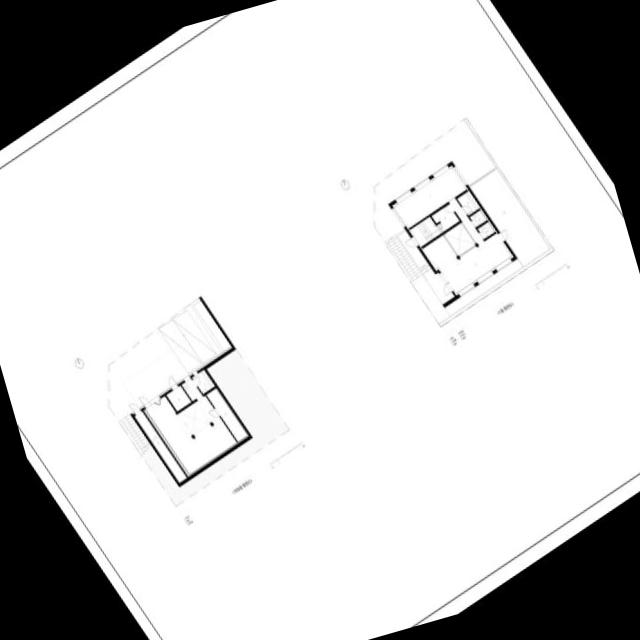background: (0, 0, 640, 640)
space_balconi: (444, 168, 550, 315)
space_front: (409, 216, 443, 247)
space_other: (109, 297, 232, 421), (421, 197, 513, 295), (143, 395, 237, 476), (392, 165, 468, 228), (134, 411, 187, 482), (206, 387, 249, 442), (178, 401, 210, 435), (398, 230, 427, 267), (444, 222, 475, 255), (431, 204, 459, 231), (166, 385, 191, 411), (457, 193, 476, 215), (466, 190, 480, 209), (201, 369, 215, 387)
space_staircase: (384, 234, 422, 281), (419, 262, 455, 304), (119, 413, 150, 455)
space_toilet: (181, 377, 203, 400), (192, 371, 212, 393), (469, 208, 488, 227), (477, 220, 496, 238)
